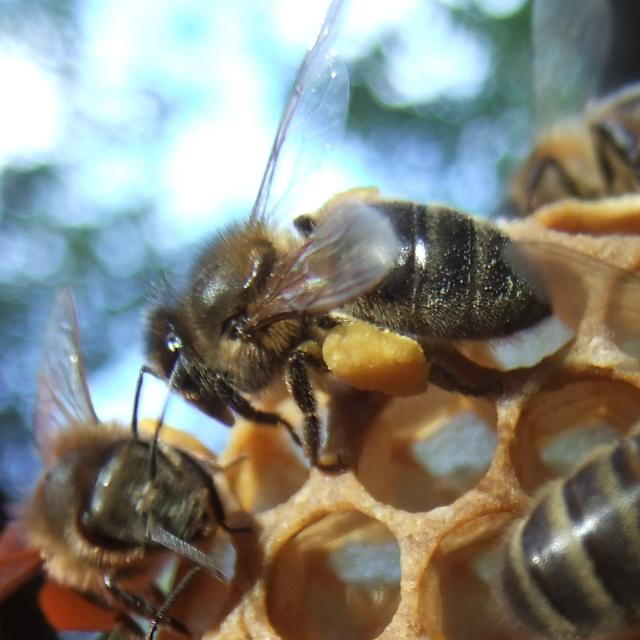Braunsapis: (125, 158, 568, 475)
